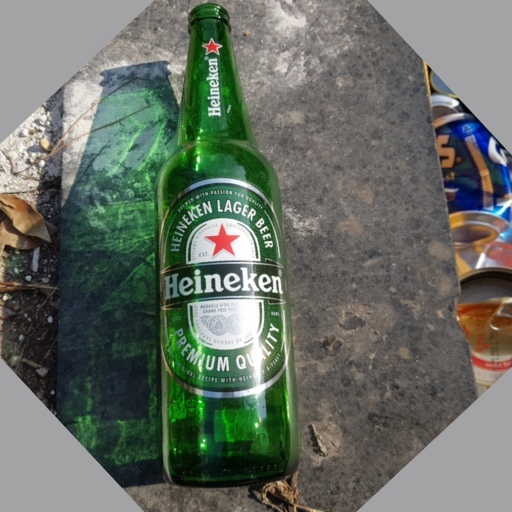Glass_1: (149, 4, 298, 486)
